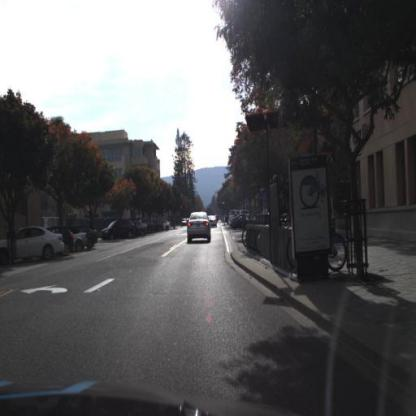car: (2, 225, 68, 266), (43, 224, 77, 257), (99, 215, 140, 241), (184, 208, 213, 244), (207, 215, 219, 230)
